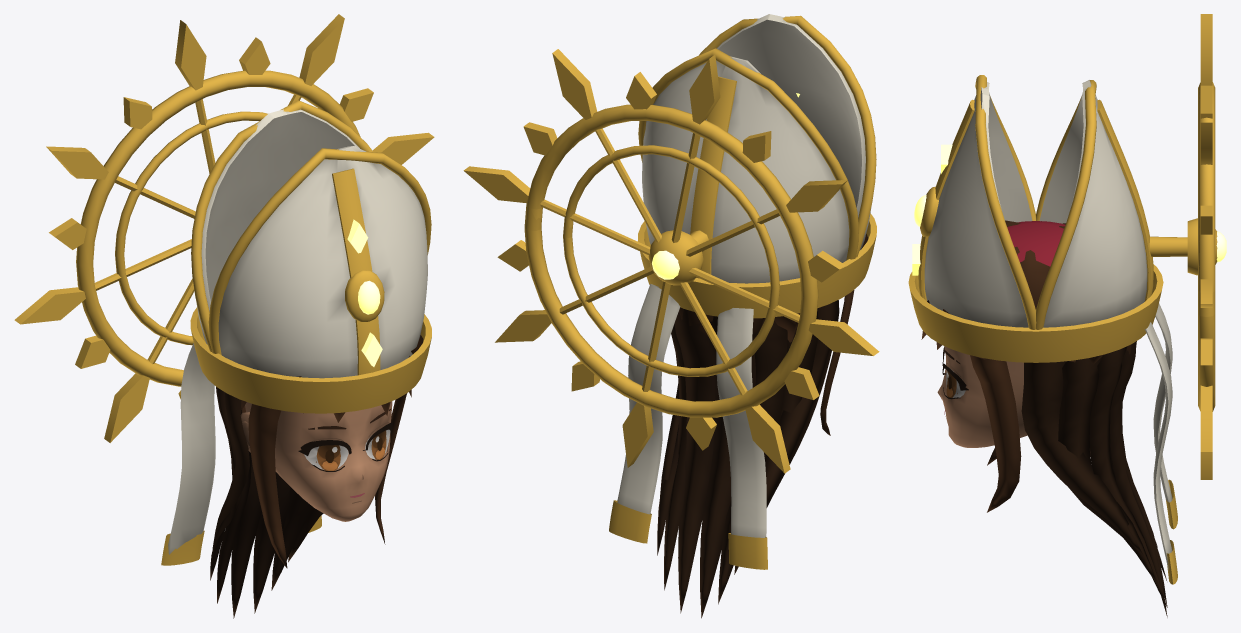
File: h_hierophant_f.glb
3 renders of one model, left to right at view 1: azimuth 30°, elevation 25°; view 2: azimuth 150°, elevation 25°; view 3: azimuth 270°, elevation 25°, orthographic.
Visible parts, largest first — view 1: Mitre, HairLong, HeadMesh, HairFrame; view 2: Mitre, HairLong, HairFrame, HairTop; view 3: Mitre, HairLong, HairFrame, HeadMesh, HairTop.
Part boxes in pixels (x1,y1,x2,y2): Mitre: (14,14,434,565); HairLong: (210,387,323,618); HeadMesh: (245,401,392,521); HairFrame: (248,393,407,568); Mitre: (463,14,879,569); HairLong: (657,300,839,618); HairFrame: (820,290,854,435); HairTop: (679,234,868,342); Mitre: (908,14,1226,584); HairLong: (1021,341,1167,617); HairFrame: (970,355,1021,512); HeadMesh: (937,346,1027,447); HairTop: (921,220,1136,364).
Bounding box in the file's own units: 0.5924 × 0.8062 × 0.4005.
